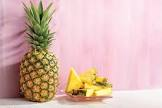Pineapple: (16, 1, 64, 101)
